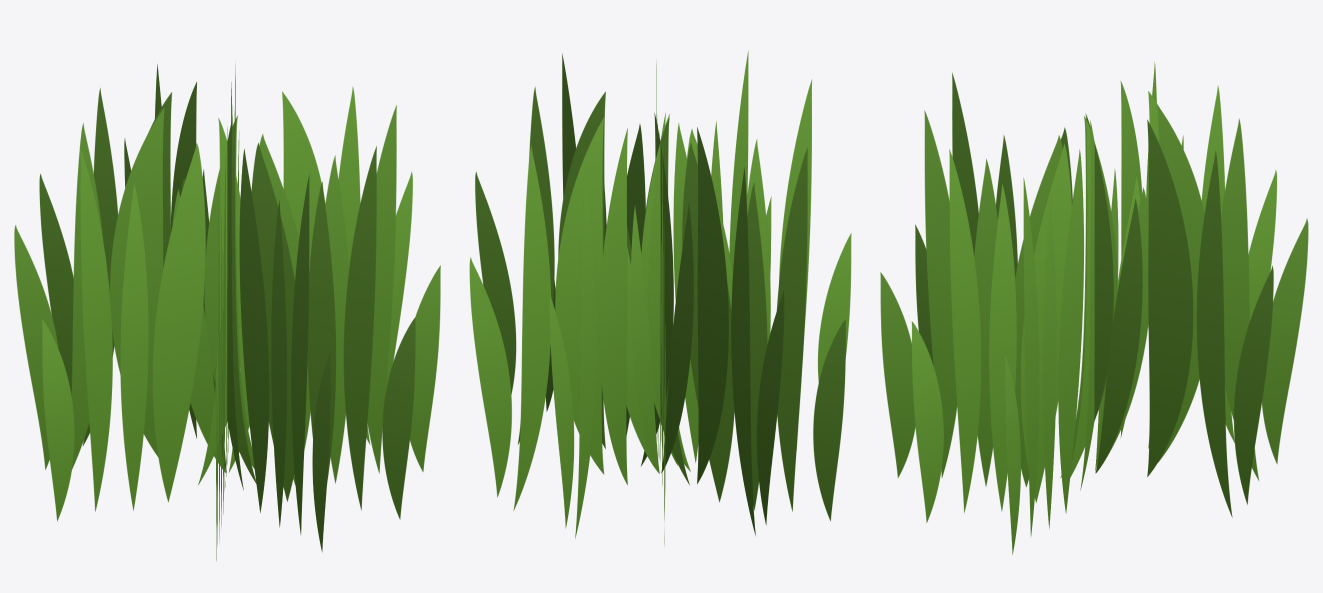
Rendered from grama.glb.
3 renders of one model, left to right at view 1: azimuth 30°, elevation 25°; view 2: azimuth 150°, elevation 25°; view 3: azimuth 270°, elevation 25°, orthographic.
Parts seen in each view (by area): view 1: Frame 34; view 2: Frame 34; view 3: Frame 34.
Boxes of the visible parts, bbox=[...] form: Frame 34: bbox=[14, 64, 440, 560]; Frame 34: bbox=[469, 50, 851, 544]; Frame 34: bbox=[880, 62, 1308, 554].
Size of the model in its own units: 0.5974 by 0.5902 by 0.5973.
1 material, 1 textured.
